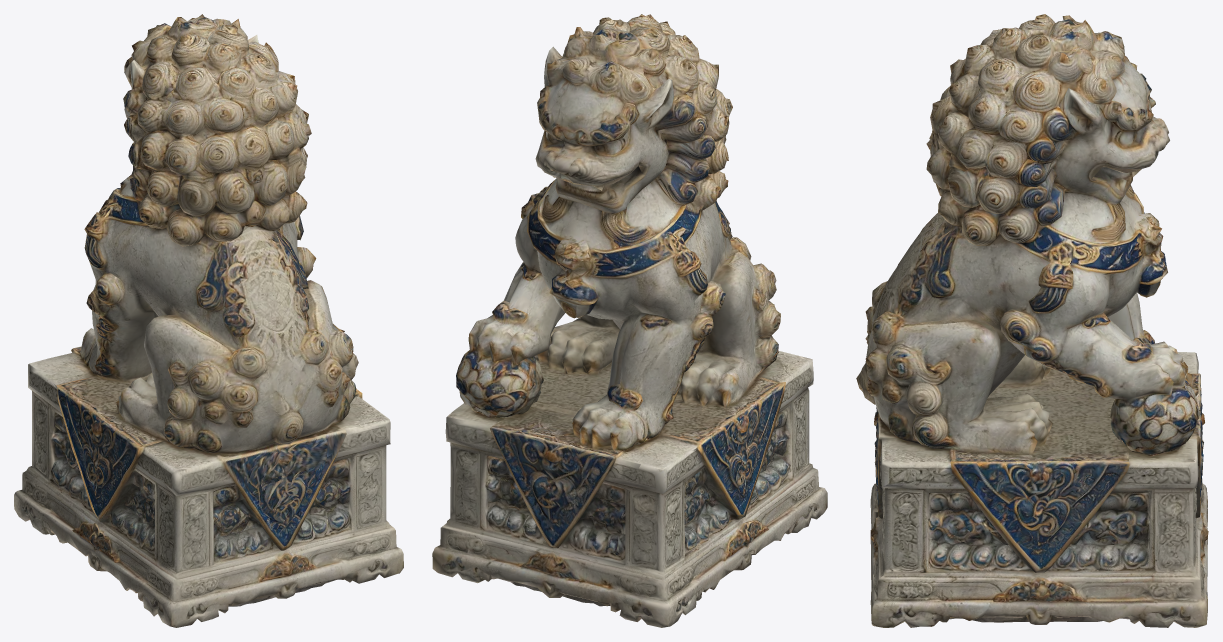
Rendered from stone_lion.glb.
3 views of the same model, side by side, from view 1: azimuth 30°, elevation 25°; view 2: azimuth 150°, elevation 25°; view 3: azimuth 270°, elevation 25° (orthographic). The views are drawn at different scales.
Parts seen in each view (by area): view 1: tripo_node_f9142a95-f54f-4469-99b8-091c1ec07bbd; view 2: tripo_node_f9142a95-f54f-4469-99b8-091c1ec07bbd; view 3: tripo_node_f9142a95-f54f-4469-99b8-091c1ec07bbd.
Part boxes in pixels (left/top/right/bottom): tripo_node_f9142a95-f54f-4469-99b8-091c1ec07bbd: left=14, top=14, right=403, bottom=627; tripo_node_f9142a95-f54f-4469-99b8-091c1ec07bbd: left=432, top=14, right=827, bottom=627; tripo_node_f9142a95-f54f-4469-99b8-091c1ec07bbd: left=856, top=14, right=1208, bottom=627.
Bounding box in the file's own units: 0.4823 × 1 × 0.5857.
Materials: 1 (1 with a texture image).
